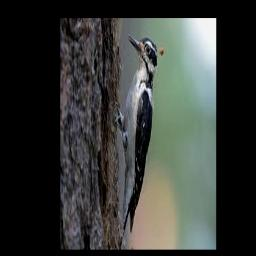Woodpecker: (115, 35, 164, 242)
